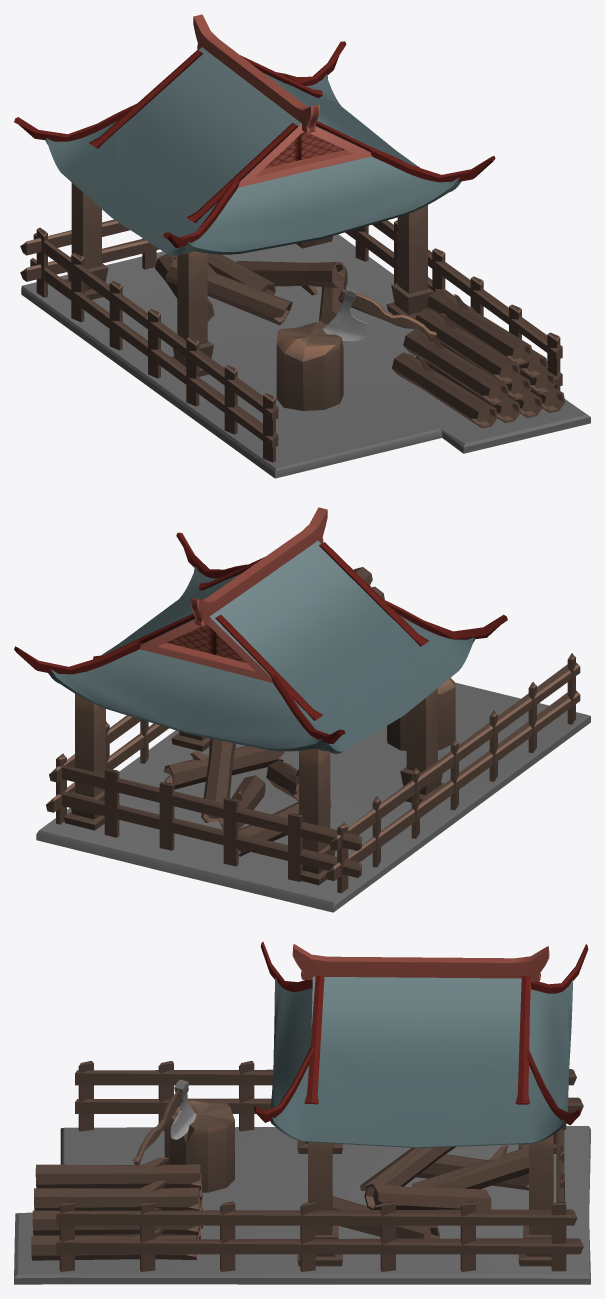
The model's file is sawmill_1lvl.fbx.
3 renders of one model, top to bottom at view 1: azimuth 30°, elevation 25°; view 2: azimuth 150°, elevation 25°; view 3: azimuth 270°, elevation 25°, orthographic. The views are drawn at different scales.
Parts seen in each view (by area): view 1: sawmill_1lvl; view 2: sawmill_1lvl; view 3: sawmill_1lvl.
Boxes of the visible parts, <box> form: sawmill_1lvl: <box>14,14,590,478</box>; sawmill_1lvl: <box>14,507,590,912</box>; sawmill_1lvl: <box>14,941,590,1284</box>.
Size of the model in its own units: 4.53 by 3.33 by 6.47.
